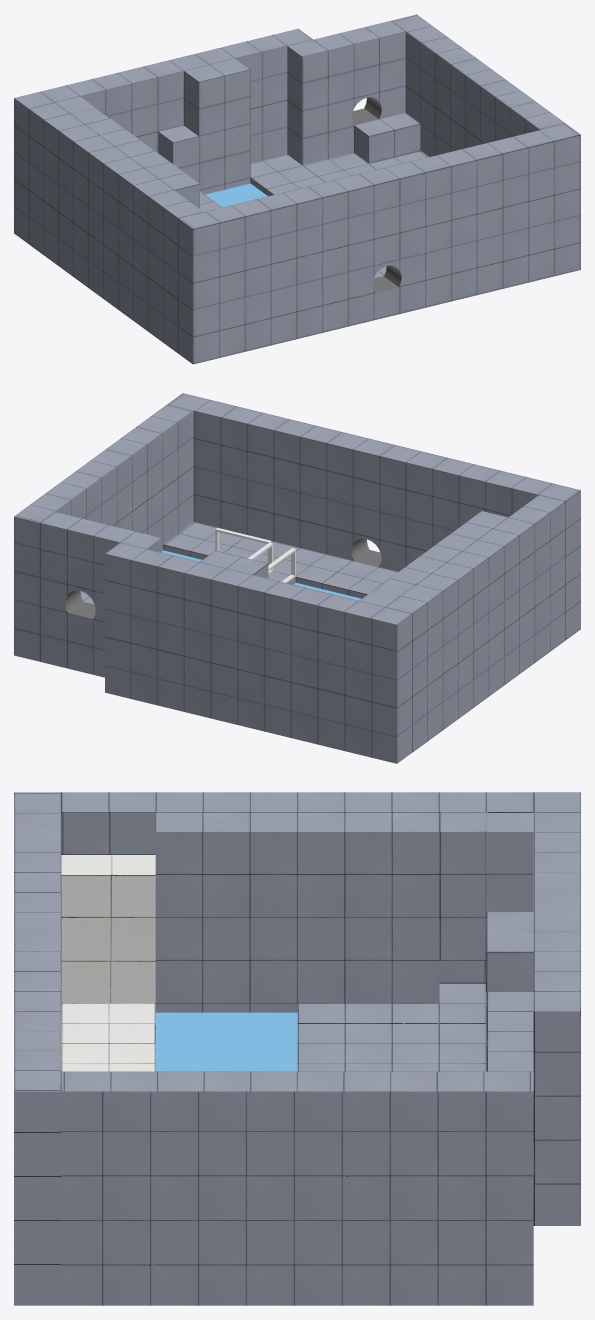
Rendered from portal2.obj.
3 renders of one model, top to bottom at view 1: azimuth 30°, elevation 25°; view 2: azimuth 150°, elevation 25°; view 3: azimuth 270°, elevation 25°, orthographic. The views are drawn at different scales.
Visible parts, largest first — view 1: pCube25, pCube9, pCube14, pCube26, pCube15, pCube11, pCube23, pCube8, pasted__pCube22, pasted__pasted__pCube21, pCube27; view 2: pCube14, pCube25, pCube9, pCube15, pCube26, pCube23, pCube8, pCube11; view 3: pCube15, pCube8, pCube25, pCube14, pCube9, partBc2, pCube23, pCube27, pCube24, partBc1, pCube10, pCube11 (+1 smaller).
Part boxes in pixels (x1=…): pCube25: x1=178, y1=124, x2=580, y2=364; pCube9: x1=29, y1=102, x2=203, y2=353; pCube14: x1=14, y1=28, x2=312, y2=243; pCube26: x1=287, y1=21, x2=405, y2=164; pCube15: x1=391, y1=14, x2=565, y2=156; pCube11: x1=184, y1=58, x2=250, y2=194; pCube23: x1=200, y1=151, x2=428, y2=278; pCube8: x1=85, y1=118, x2=199, y2=208; pasted__pCube22: x1=354, y1=113, x2=420, y2=163; pasted__pasted__pCube21: x1=158, y1=125, x2=198, y2=182; pCube27: x1=205, y1=183, x2=267, y2=207; pCube14: x1=105, y1=542, x2=412, y2=763; pCube25: x1=168, y1=393, x2=580, y2=639; pCube9: x1=386, y1=495, x2=565, y2=752; pCube15: x1=14, y1=404, x2=193, y2=661; pCube26: x1=40, y1=512, x2=161, y2=677; pCube23: x1=163, y1=522, x2=397, y2=598; pCube8: x1=390, y1=511, x2=507, y2=584; pCube11: x1=200, y1=550, x2=268, y2=578; pCube15: x1=61, y1=1071, x2=533, y2=1305; pCube8: x1=155, y1=812, x2=439, y2=1012; pCube25: x1=14, y1=792, x2=61, y2=1305; pCube14: x1=533, y1=792, x2=580, y2=1225; pCube9: x1=61, y1=792, x2=533, y2=983; partBc2: x1=61, y1=855, x2=155, y2=1003; pCube23: x1=297, y1=983, x2=486, y2=1071; pCube27: x1=155, y1=1012, x2=297, y2=1071; pCube24: x1=439, y1=812, x2=486, y2=960; partBc1: x1=61, y1=1003, x2=155, y2=1071; pCube10: x1=486, y1=812, x2=533, y2=911; pCube11: x1=486, y1=912, x2=533, y2=991.
Bounding box in the file's own units: 15 × 5 × 12.
